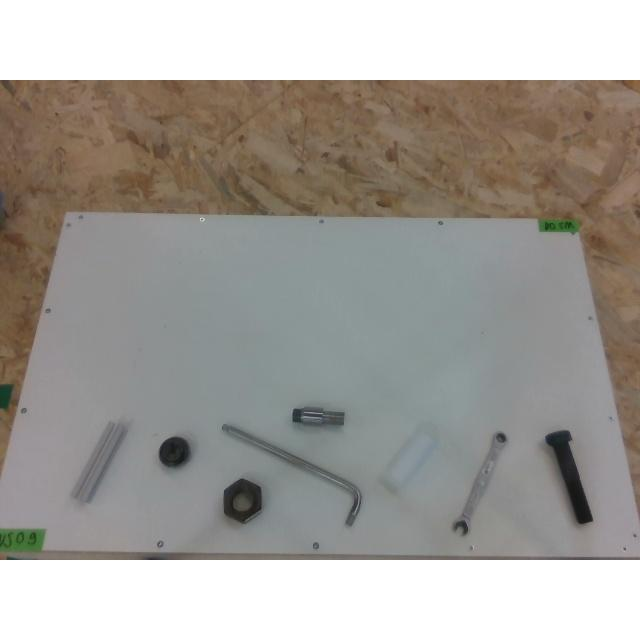AllenKey: (222, 424, 362, 526)
Axis2: (292, 406, 344, 426)
Bearing2: (158, 437, 190, 468)
F20_20_G: (71, 421, 125, 501)
M20_100: (544, 430, 592, 522)
M30: (223, 478, 261, 522)
Spacer: (378, 422, 438, 493)
Wrench: (452, 432, 506, 534)
